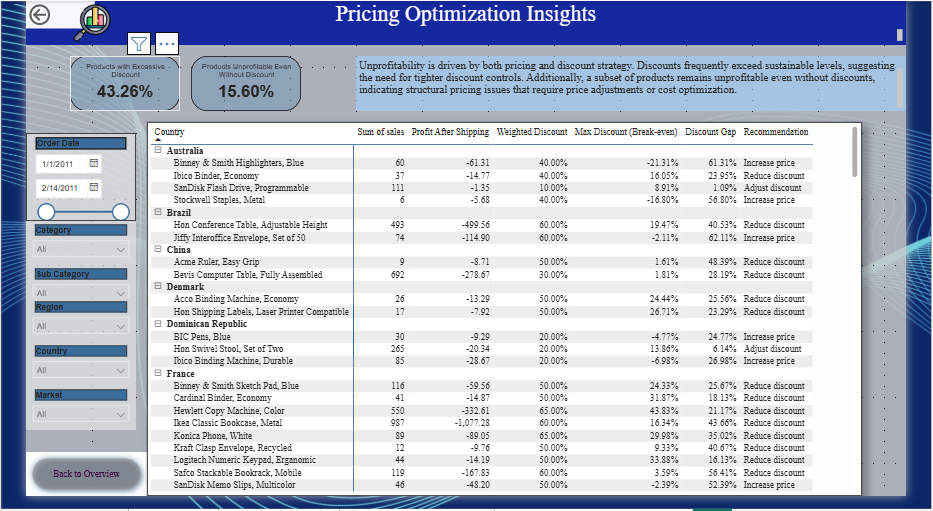

The dashboard page shown, as its layout file describes it:
{"tool":"powerbi","page":{"name":"Pricing Optimization Insights","canvas":[1280,720],"ordinal":3},"visuals":[{"type":"image","box":[0,0,171.5,105.7],"z":0},{"type":"textbox","title":"Pricing   Optimization   Insights","box":[0,0,1280,64],"z":1000},{"type":"card","title":"Products with Excessive Discount","fields":{"Values":["DATASET.% Excess Discount"]},"box":[64,80,160,80],"z":2000},{"type":"slicer","fields":{"Values":["DATASET.order_date"]},"box":[0,192,160,128],"z":3000},{"type":"slicer","fields":{"Values":["DATASET.country"]},"box":[0,496,160,64],"z":4000},{"type":"slicer","fields":{"Values":["DATASET.sub_category"]},"box":[0,384,160,48],"z":5000},{"type":"actionButton","box":[0,0,100,40],"z":6000},{"type":"actionButton","box":[0,656,176,64],"z":7000},{"type":"image","box":[0,0,192,64],"z":8000},{"type":"slicer","fields":{"Values":["DATASET.region"]},"box":[0,432,160,64],"z":9000},{"type":"slicer","fields":{"Values":["DATASET.category"]},"box":[0,320,160,64],"z":10000},{"type":"slicer","fields":{"Values":["DATASET.market"]},"box":[0,560,160,64],"z":11000},{"type":"pivotTable","fields":{"Values":["Sum(DATASET.sales)","DATASET.Profit After Shipping","DATASET.Weighted Discount","DATASET.Max Discount (Break-even)","DATASET.Discount Gap","DATASET.Pricing Status"],"Rows":["DATASET.country","DATASET.product_name"]},"box":[176,176,1040,544],"z":12000},{"type":"card","title":"Products Unprofitable Even Without Discount","fields":{"Values":["DATASET.% Products Unprofitable (No Discount)"]},"box":[240,80,160,80],"z":13000},{"type":"textbox","box":[480,80,800,80],"z":14000}]}

Visuals, with their boxes on the page's 1280x720 design canvas (x1, y1, x2, y2). These are canvas units, not pixel positions in the 933x511 screenshot, which may show the page scaled, cropped or inside an application window:
image: <region>0, 0, 172, 106</region>
"Pricing   Optimization   Insights" textbox: <region>0, 0, 1280, 64</region>
"Products with Excessive Discount" card: <region>64, 80, 224, 160</region>
slicer - DATASET.order_date: <region>0, 192, 160, 320</region>
slicer - DATASET.country: <region>0, 496, 160, 560</region>
slicer - DATASET.sub_category: <region>0, 384, 160, 432</region>
actionButton: <region>0, 0, 100, 40</region>
actionButton: <region>0, 656, 176, 720</region>
image: <region>0, 0, 192, 64</region>
slicer - DATASET.region: <region>0, 432, 160, 496</region>
slicer - DATASET.category: <region>0, 320, 160, 384</region>
slicer - DATASET.market: <region>0, 560, 160, 624</region>
pivotTable - Sum(DATASET.sales) x DATASET.Profit After Shipping: <region>176, 176, 1216, 720</region>
"Products Unprofitable Even Without Discount" card: <region>240, 80, 400, 160</region>
textbox: <region>480, 80, 1280, 160</region>
